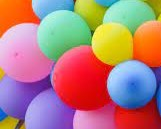Balloon: (51, 46, 113, 110), (1, 22, 52, 81), (107, 60, 159, 110), (36, 11, 91, 57), (91, 23, 133, 65), (132, 20, 161, 67)
